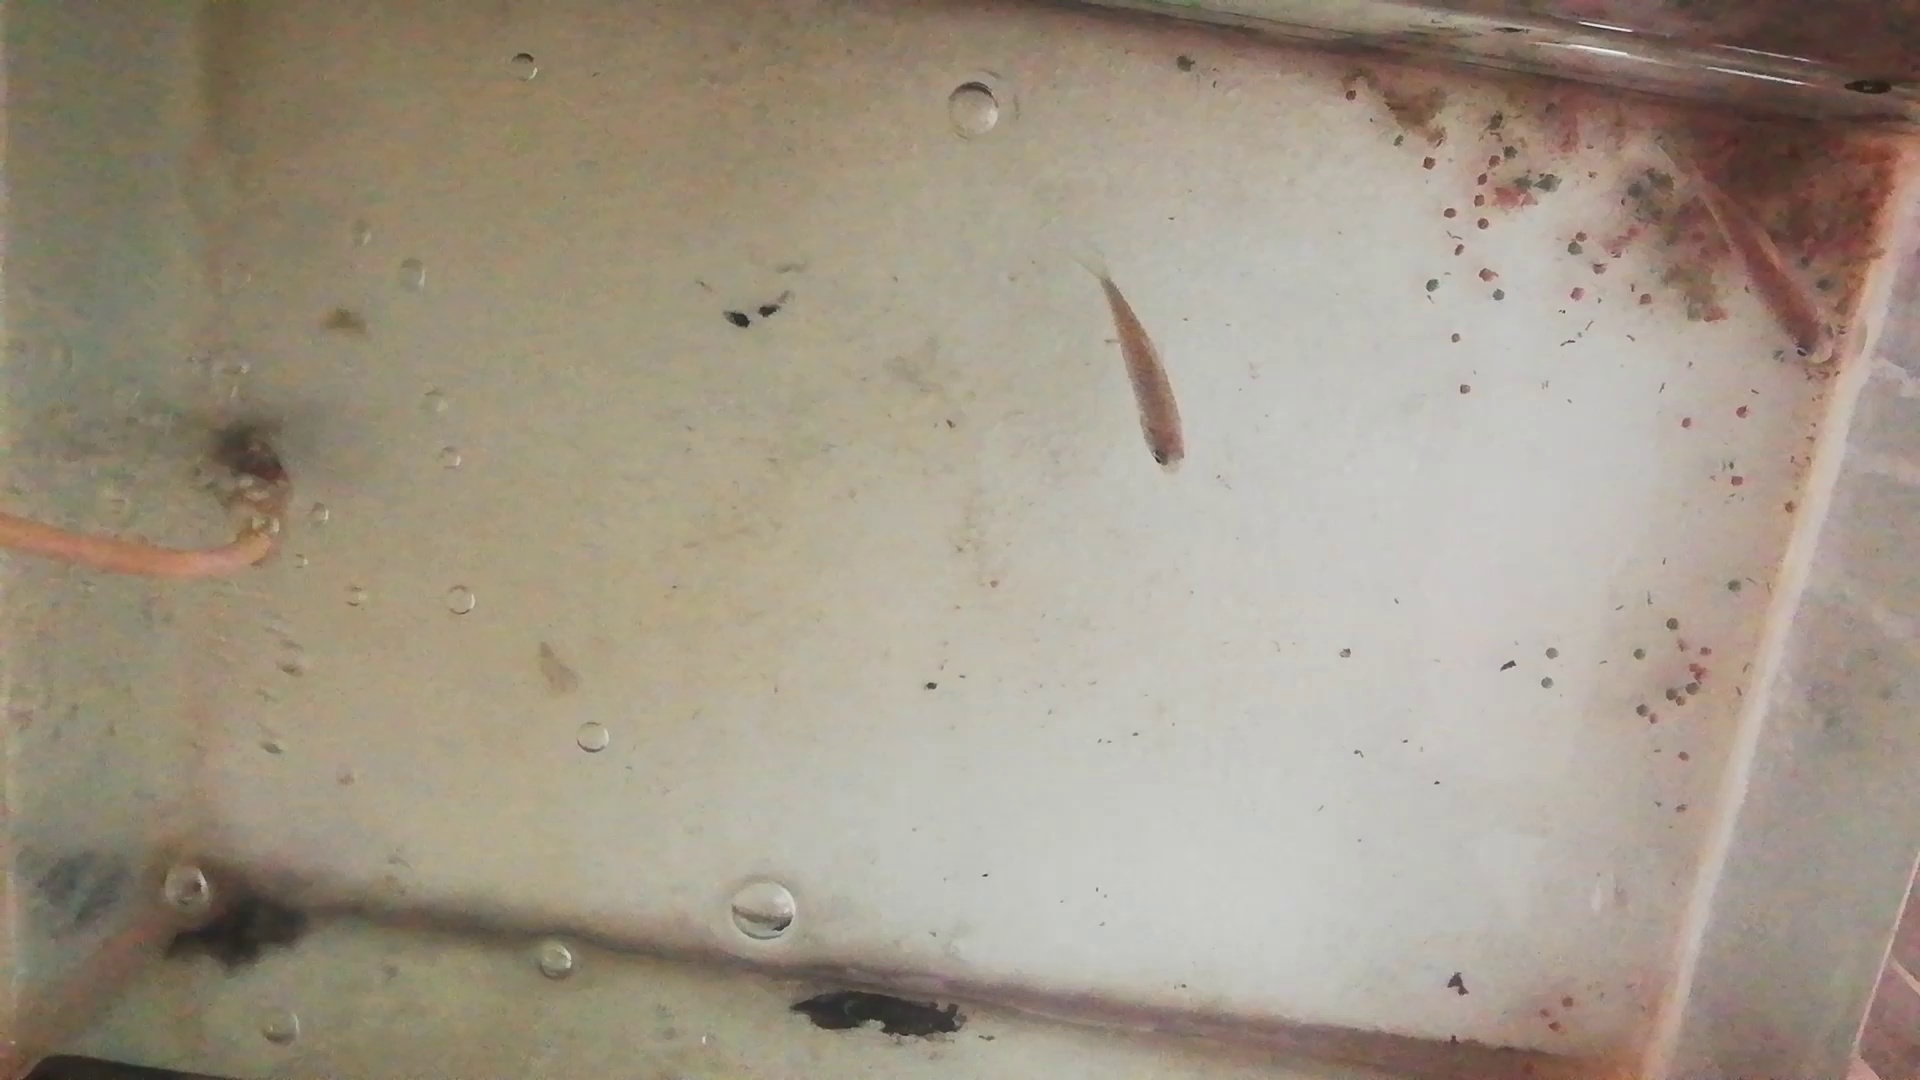fish: (1684, 153, 1832, 357), (1096, 265, 1192, 464)
